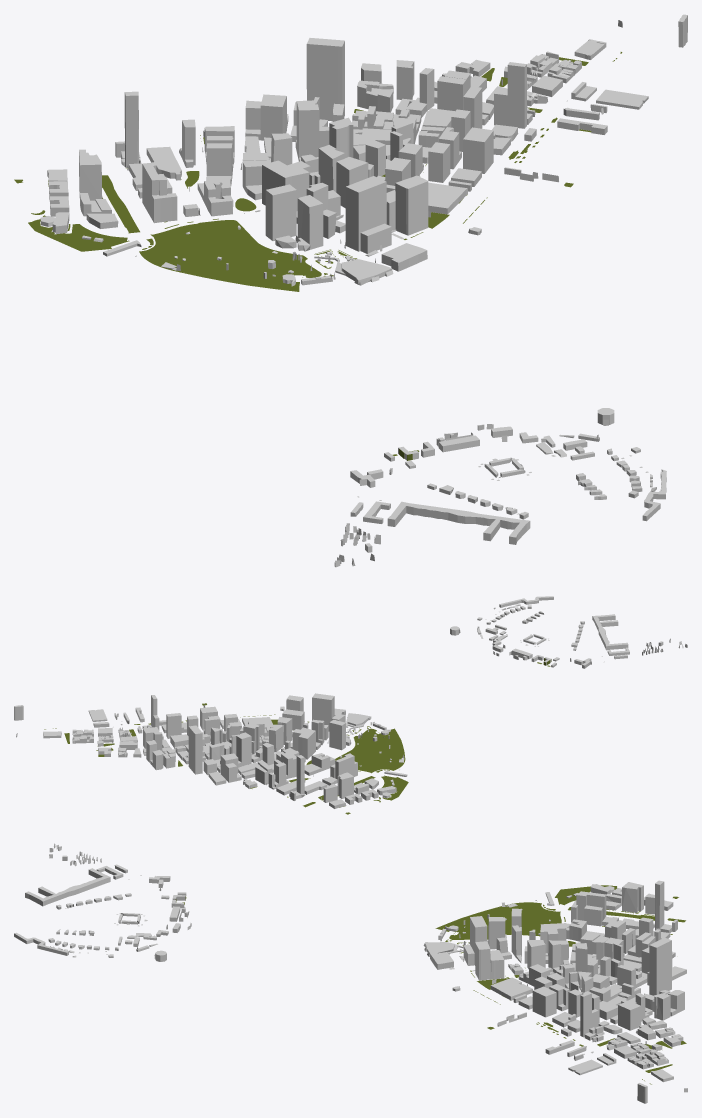
Rendered from area0_lod0.glb.
The picture shows the model from 3 angles, top to bottom: view 1: azimuth 30°, elevation 25°; view 2: azimuth 150°, elevation 25°; view 3: azimuth 270°, elevation 25°; orthographic projection. The views are drawn at different scales.
Visible parts, largest first — view 1: Area01_Lod0, Areas:leisure; view 2: Area01_Lod0, Areas:leisure; view 3: Area01_Lod0, Areas:leisure.
Part boxes in pixels (box(x1,y1,x2,y2)): Area01_Lod0: box(40, 14, 687, 567); Areas:leisure: box(14, 52, 622, 460); Area01_Lod0: box(14, 596, 687, 808); Areas:leisure: box(44, 658, 551, 814); Area01_Lod0: box(14, 843, 687, 1103); Areas:leisure: box(175, 885, 686, 1084).
Size of what is drawn, in the model's own units: 2773 by 248 by 3074.
